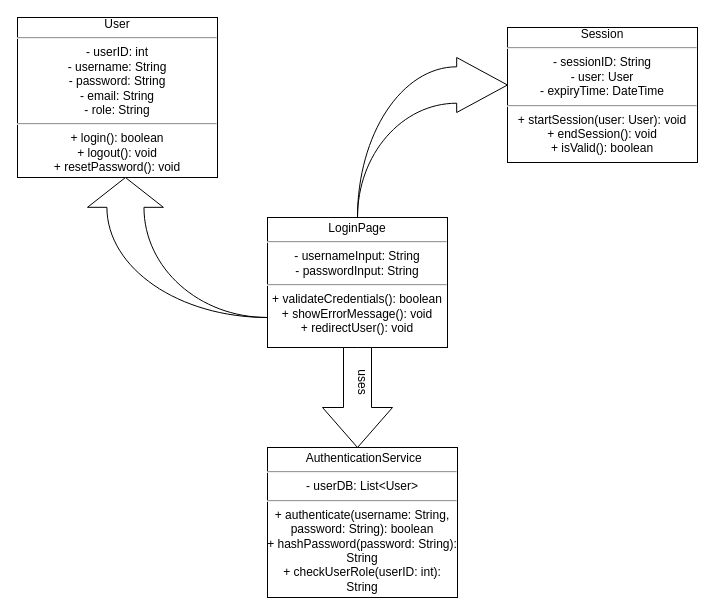
This 715x615 diagram has some shape labels left out. Here are the shapes that lost their labels. From the top down, the centre of each, then its label:
At [432,137]: "creates".
At [177,247]: "accesses".
